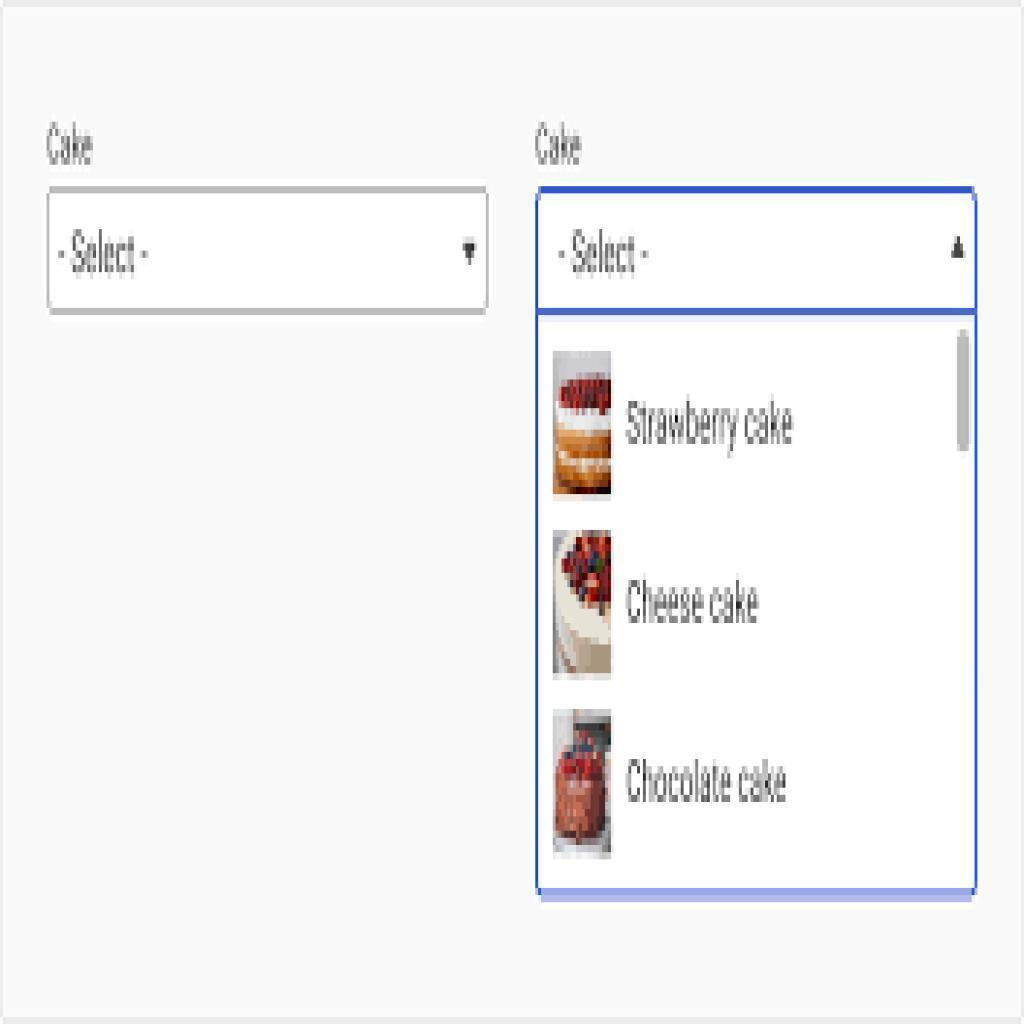dropdown: (49, 189, 489, 314), (536, 187, 976, 311)
